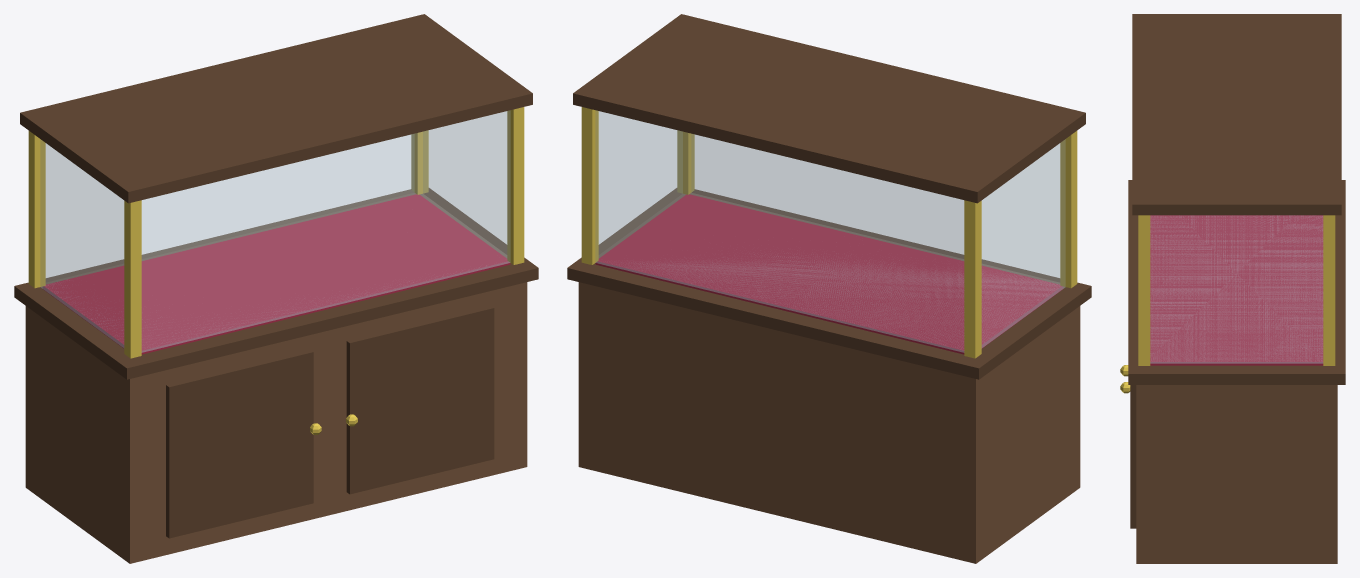
Rendered from cab_counter_glass.glb.
3 renders of one model, left to right at view 1: azimuth 30°, elevation 25°; view 2: azimuth 150°, elevation 25°; view 3: azimuth 270°, elevation 25°, orthographic. The views are drawn at different scales.
Parts seen in each view (by area): view 1: cab_counter_glass; view 2: cab_counter_glass; view 3: cab_counter_glass.
Boxes of the visible parts, left/top/right/bottom form: cab_counter_glass: left=14, top=14, right=538, bottom=563; cab_counter_glass: left=567, top=14, right=1091, bottom=563; cab_counter_glass: left=1120, top=14, right=1345, bottom=563.
Bounding box in the file's own units: 1.14 × 0.99 × 0.5593.
